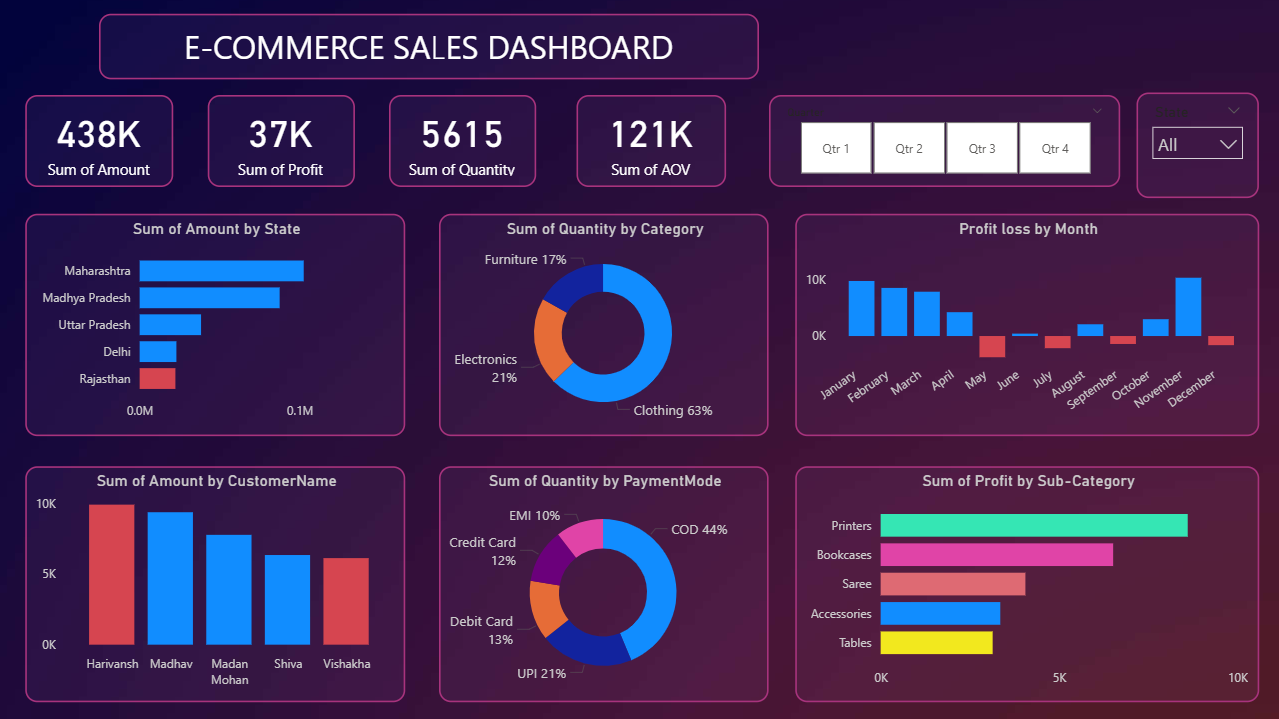

What the dashboard file says about the page in this screenshot:
{"tool":"powerbi","page":{"name":"Page 1","canvas":[1280,720],"ordinal":0},"visuals":[{"type":"columnChart","title":"Profit loss by Month","fields":{"Category":["Orders.Order Date.Variation.Date Hierarchy.Month"],"Y":["Details.Profit"]},"box":[795.9,214.1,463.8,222.3],"z":1000},{"type":"barChart","fields":{"Category":["Details.Sub-Category"],"Y":["Details.Profit"]},"box":[795.9,466.6,463.8,236],"z":2000},{"type":"donutChart","fields":{"Category":["Details.Category"],"Y":["Details.Quantity"]},"box":[440.5,214.1,329.3,222.3],"z":3000},{"type":"donutChart","fields":{"Category":["Details.PaymentMode","Details.Category"],"Y":["Details.Quantity"]},"box":[440.5,466.6,329.3,236],"z":4000},{"type":"card","fields":{"Values":["Details.Amount"]},"box":[26.1,94.7,148.2,91.9],"z":5000},{"type":"card","fields":{"Values":["Details.Profit"]},"box":[208.6,94.7,146.8,91.9],"z":6000},{"type":"card","fields":{"Values":["Details.Quantity"]},"box":[389.7,94.7,146.8,91.9],"z":7000},{"type":"card","fields":{"Values":["Details.AOV"]},"box":[577.7,94.7,149.6,91.9],"z":8000},{"type":"barChart","fields":{"Category":["Orders.State"],"Y":["Details.Amount"]},"box":[26.1,214.1,380.1,222.3],"z":8001},{"type":"columnChart","fields":{"Category":["Orders.CustomerName"],"Y":["Details.Amount"]},"box":[26.1,466.6,380.1,236],"z":8002},{"type":"slicer","fields":{"Values":["Orders.Order Date.Variation.Date Hierarchy.Quarter"]},"box":[769.8,94.7,351.3,91.9],"z":8003},{"type":"slicer","fields":{"Values":["Orders.State"]},"box":[1137.6,91.9,122.1,105.7],"z":8004},{"type":"textbox","box":[100.2,13.7,660,65.9],"z":8005}]}

Visuals, with their boxes in screenshot pixels (x1, y1, x2, y2), scaled from the page's 1280x720 canvas onto the 1279x719 screenshot:
"Profit loss by Month" columnChart: BBox(795, 214, 1259, 436)
barChart - Details.Sub-Category x Details.Profit: BBox(795, 466, 1259, 702)
donutChart - Details.Category x Details.Quantity: BBox(440, 214, 769, 436)
donutChart - Details.PaymentMode x Details.Category: BBox(440, 466, 769, 702)
card - Details.Amount: BBox(26, 95, 174, 186)
card - Details.Profit: BBox(208, 95, 355, 186)
card - Details.Quantity: BBox(389, 95, 536, 186)
card - Details.AOV: BBox(577, 95, 727, 186)
barChart - Orders.State x Details.Amount: BBox(26, 214, 406, 436)
columnChart - Orders.CustomerName x Details.Amount: BBox(26, 466, 406, 702)
slicer - Orders.Order Date.Variation.Date Hierarchy.Quarter: BBox(769, 95, 1120, 186)
slicer - Orders.State: BBox(1137, 92, 1259, 197)
textbox: BBox(100, 14, 760, 79)
